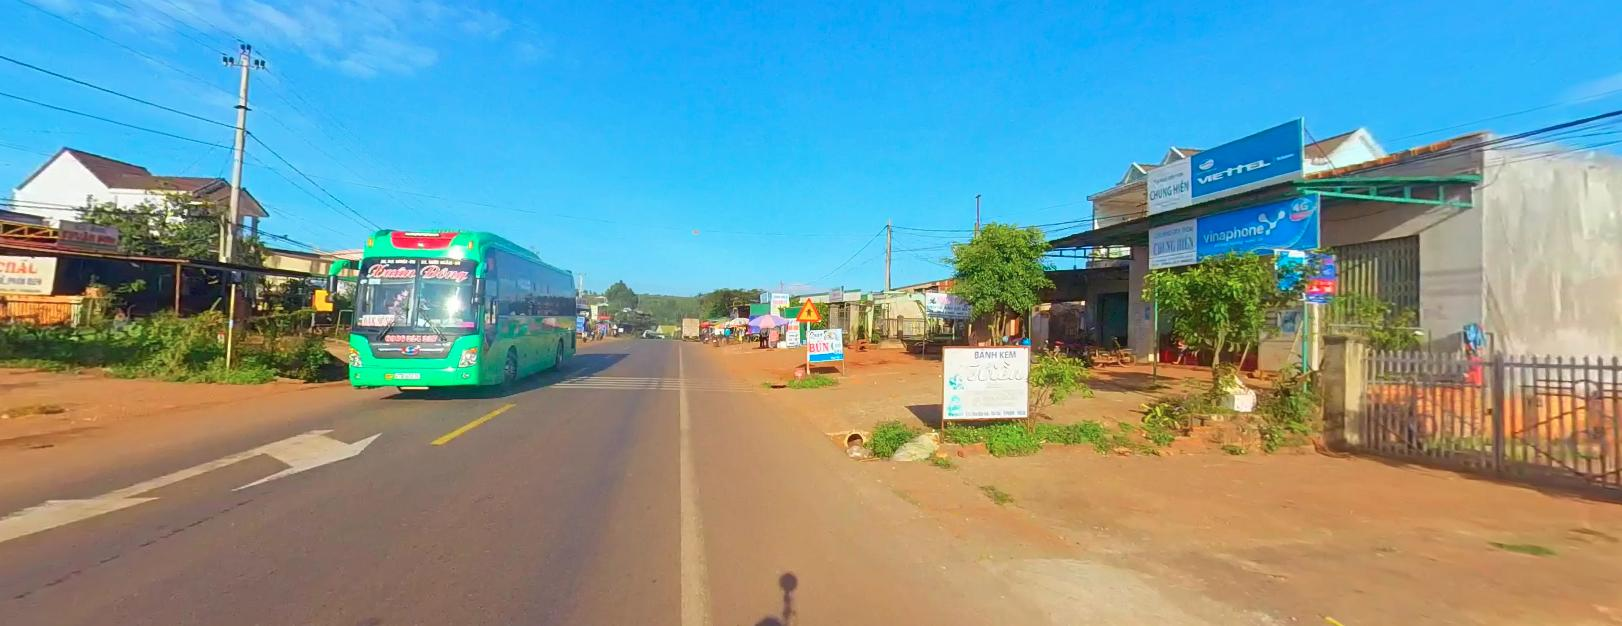Nguy hiem: (795, 296, 820, 320)
